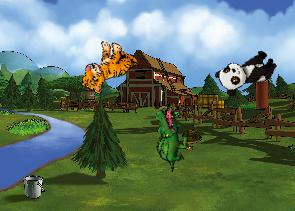crocodile: (139, 103, 200, 172)
panda: (213, 44, 280, 99)
tiger: (77, 35, 140, 102)
